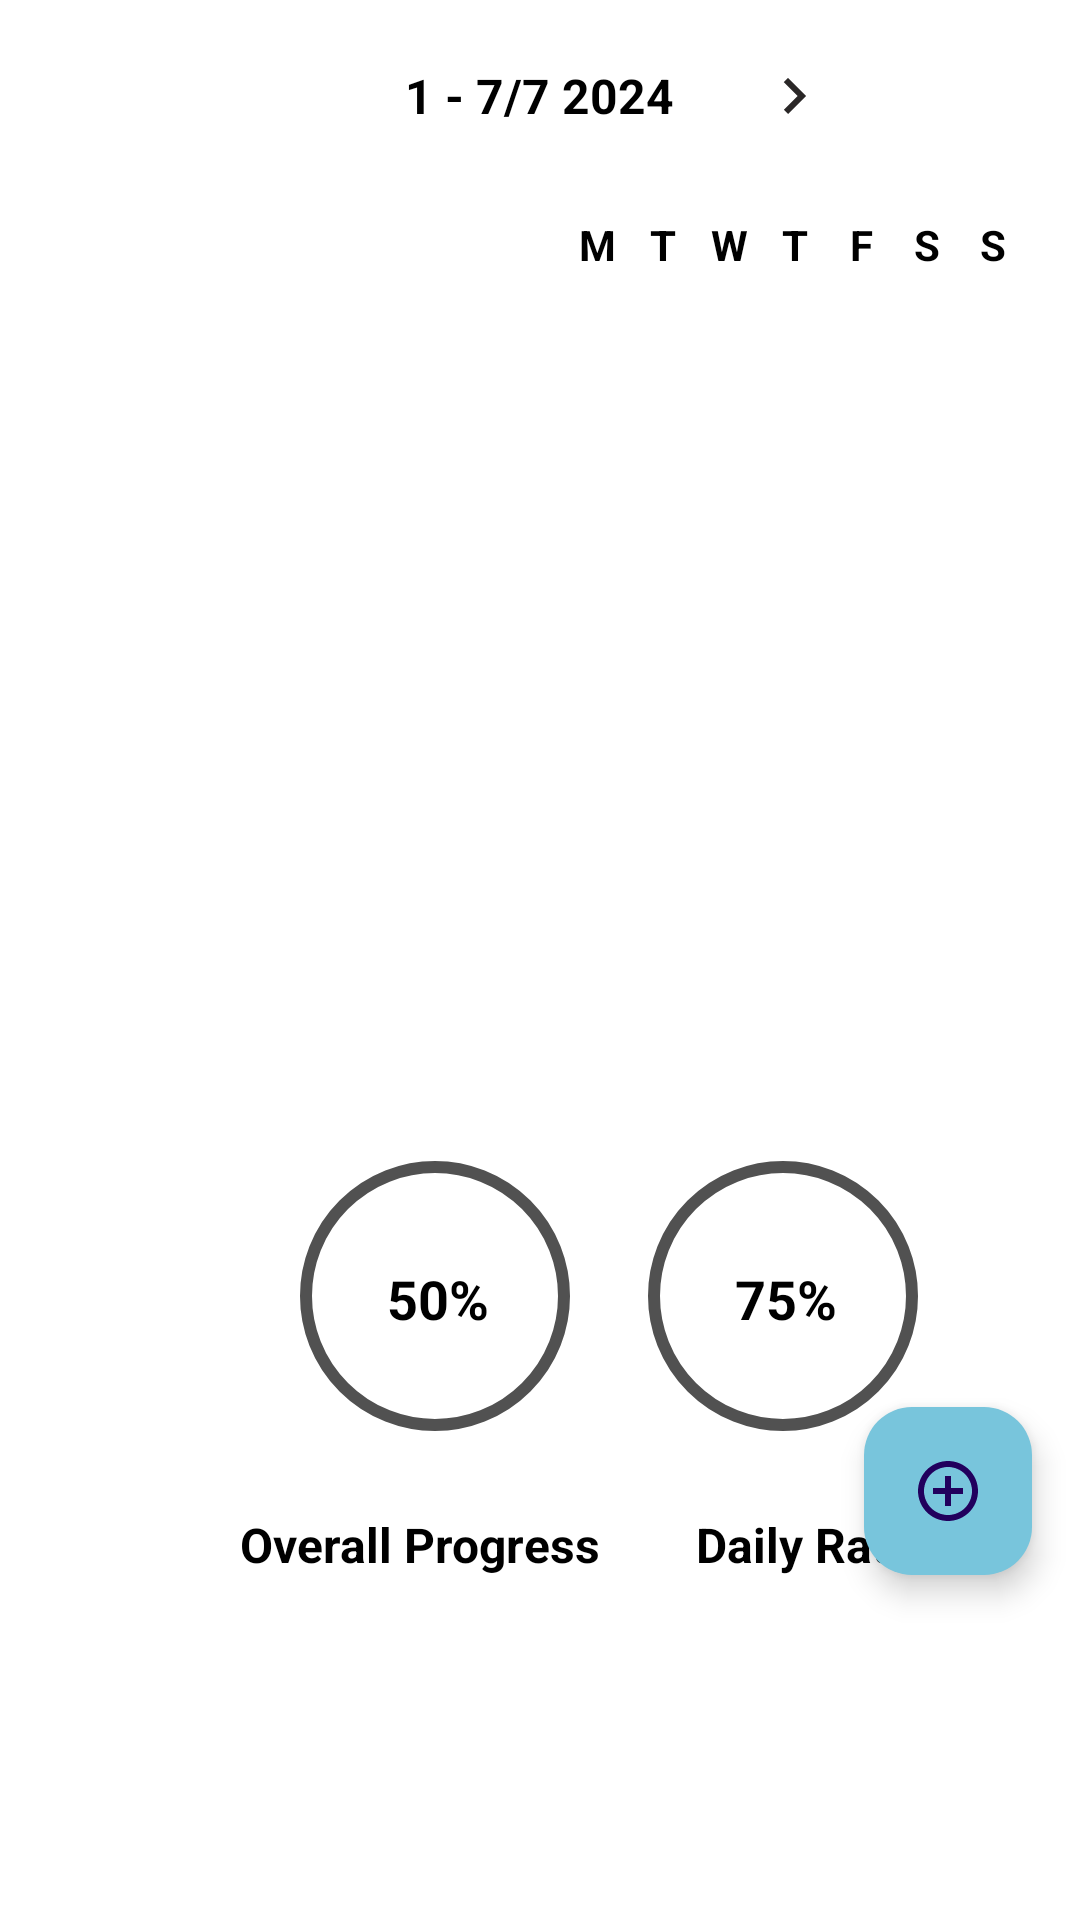

Named icons in this screenshot (1080px×1920px) and their bounding boxes, (x1, y1, x2, y2):
Add Habit: (864, 1407, 1032, 1575)
Next Week: (784, 78, 806, 114)
